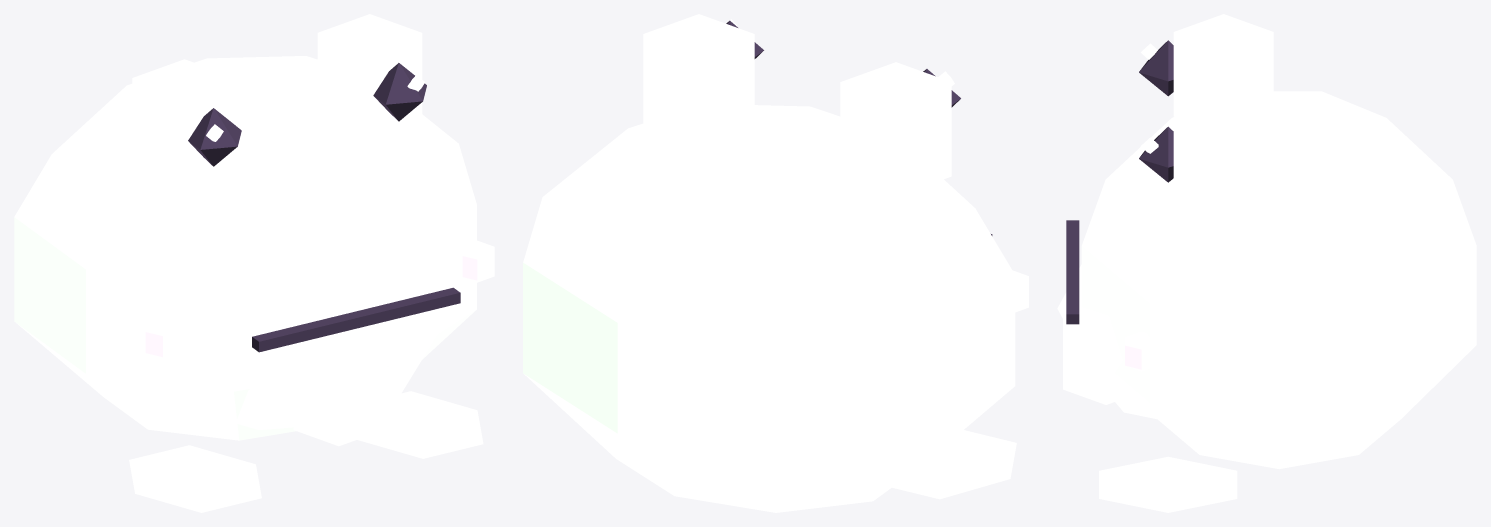
File: spirit_bobbin.glb
3 renders of one model, left to right at view 1: azimuth 30°, elevation 25°; view 2: azimuth 150°, elevation 25°; view 3: azimuth 270°, elevation 25°, orthographic. The views are drawn at different scales.
Visible parts, largest first — view 1: squish, eyes, pulse; view 2: squish, eyes; view 3: squish, eyes, pulse.
Part boxes in pixels (left/top/right/bottom): squish: left=14, top=56, right=494, bottom=512; eyes: left=132, top=14, right=426, bottom=182; pulse: left=293, top=366, right=384, bottom=446; squish: left=523, top=105, right=1028, bottom=512; eyes: left=643, top=14, right=960, bottom=189; squish: left=1057, top=91, right=1476, bottom=512; eyes: left=1139, top=14, right=1273, bottom=217; pulse: left=1063, top=319, right=1114, bottom=404.
Bounding box in the file's own units: 2.03 × 1.96 × 1.89.
